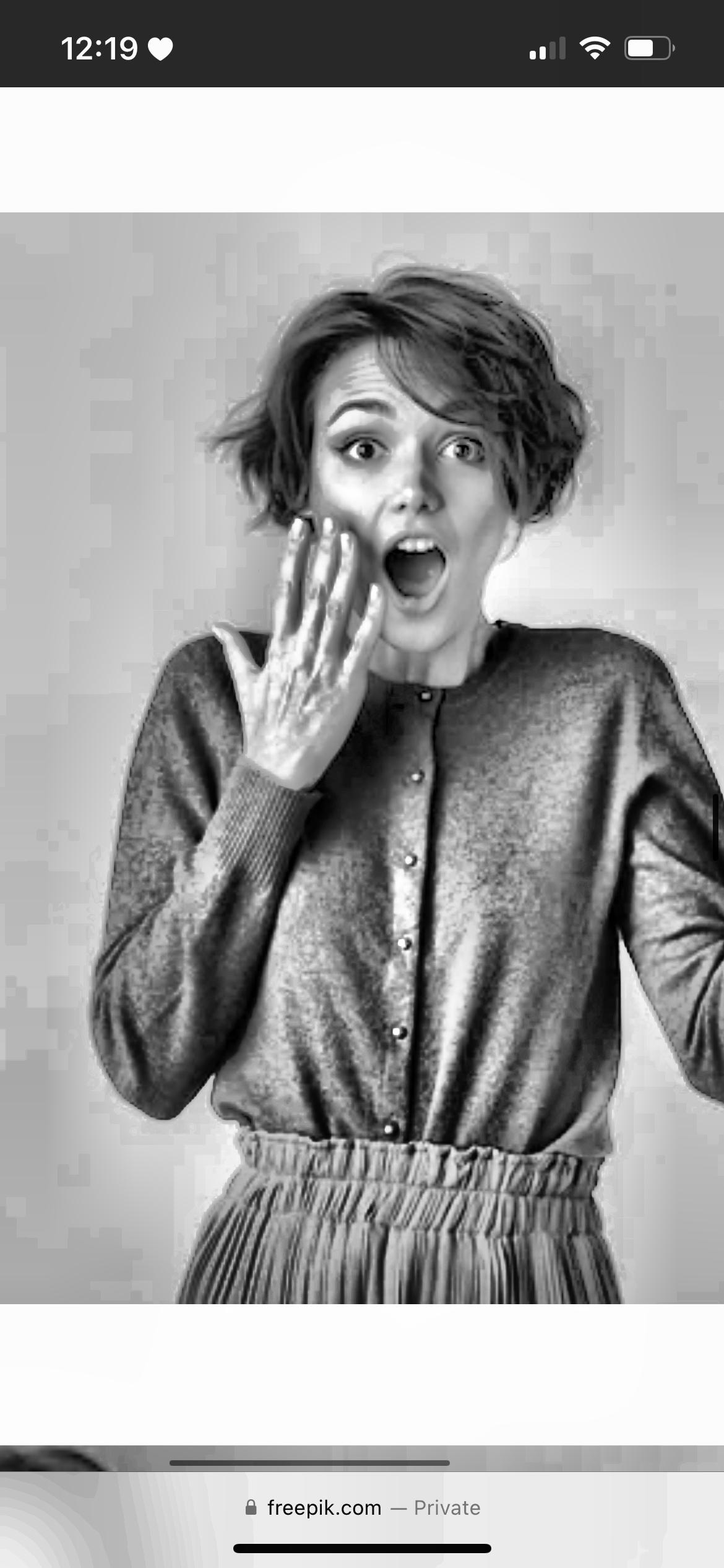surprised: (323, 353, 505, 650)
